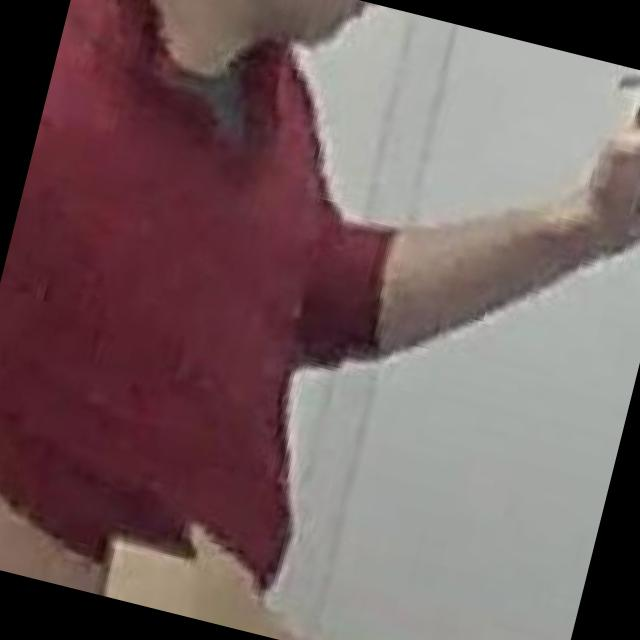Guns: (505, 48, 640, 277)
